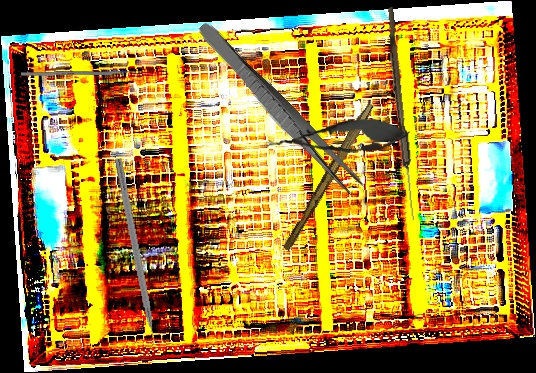Chopper: (103, 157, 161, 359)
Dressing Forceps: (191, 19, 366, 199)
Micro Scissor: (263, 114, 412, 162)
Pusher: (20, 69, 146, 77)
Scalpel Handle: (281, 99, 375, 254)
Surgical Spoon: (382, 7, 420, 221)
